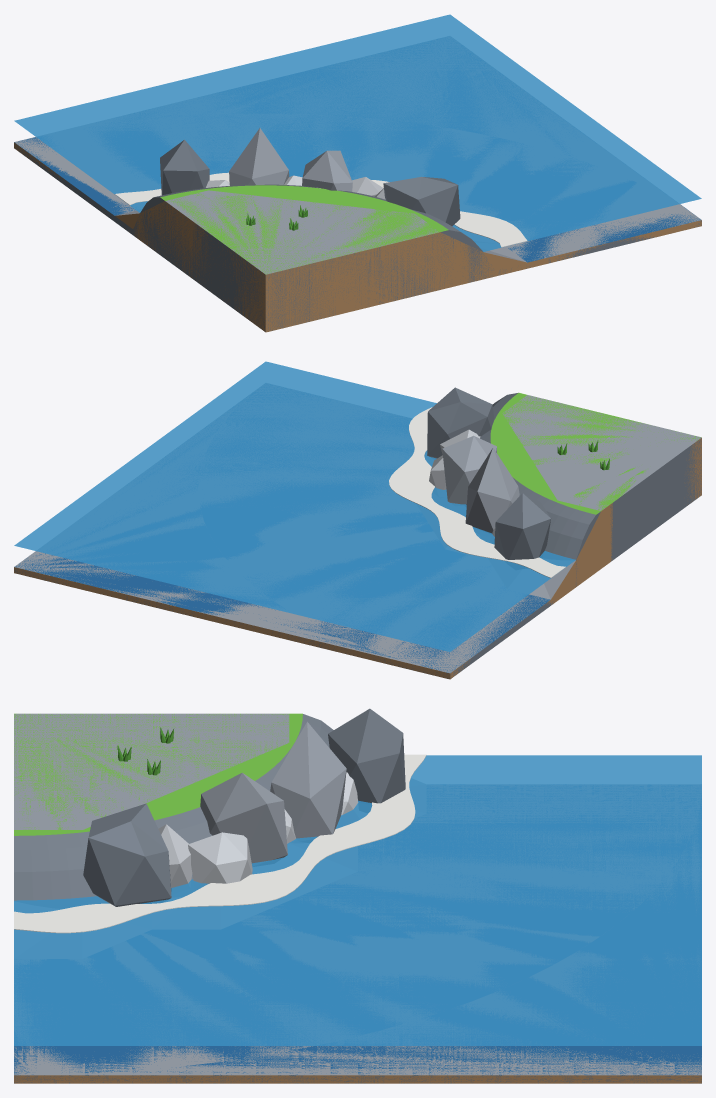
The model's file is costa_rocha_canto_ext.glb.
3 renders of one model, top to bottom at view 1: azimuth 30°, elevation 25°; view 2: azimuth 150°, elevation 25°; view 3: azimuth 270°, elevation 25°, orthographic. The views are drawn at different scales.
Visible parts, largest first — view 1: costa_rocha_canto_ext, colisao_rocha; view 2: costa_rocha_canto_ext, colisao_rocha; view 3: costa_rocha_canto_ext, colisao_rocha.
Boxes of the visible parts, x1,y1,x2,y2 form: costa_rocha_canto_ext: (14, 14, 701, 331); colisao_rocha: (14, 137, 701, 332); costa_rocha_canto_ext: (14, 361, 701, 678); colisao_rocha: (14, 395, 701, 679); costa_rocha_canto_ext: (14, 708, 701, 1083); colisao_rocha: (14, 713, 701, 1083).
Size of the model in its own units: 15 by 3.34 by 15.
Materials: 2 (1 with a texture image).
